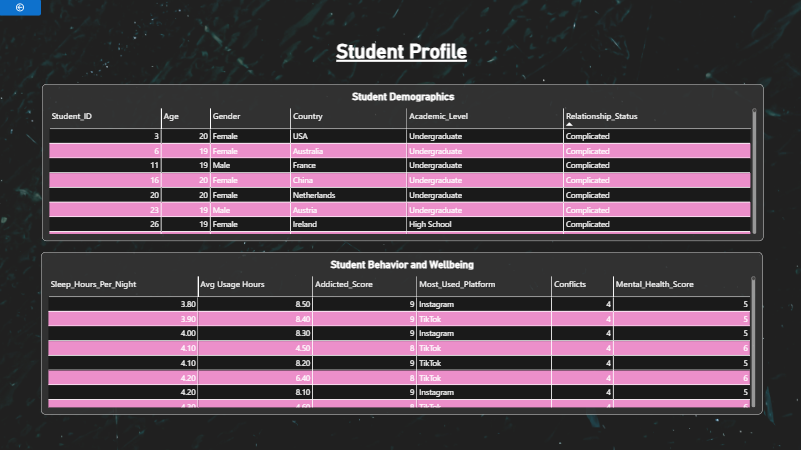

This screenshot's page, from the dashboard's own definition file:
{"tool":"powerbi","page":{"name":"Student Profile","canvas":[1920,1080],"ordinal":5},"visuals":[{"type":"textbox","title":"Student Profile","box":[100,97.5,1717.5,55],"z":0},{"type":"actionButton","box":[0,0,100,40],"z":1000},{"type":"tableEx","title":"Student Demographics","fields":{"Values":["Platform_Details.Student_ID","Student_Details.Age","Student_Details.Gender","Student_Details.Country","Student_Details.Academic_Level","Student_Details.Relationship_Status"]},"box":[102,202,1717.8,374.2],"z":2000},{"type":"tableEx","title":"Student Behavior and Wellbeing","fields":{"Values":["Student_Details.Sleep_Hours_Per_Night","Platform_Details.Avg Usage Hours","Student_Details.Addicted_Score","Platform_Details.Most_Used_Platform","Student_Details.Conflicts_Over_Social_Media","Student_Details.Mental_Health_Score"]},"box":[99.9,601.7,1717.8,386.9],"z":3000}]}

Visuals, with their boxes in screenshot pixels (x1, y1, x2, y2), scaled from the page's 1920x1080 canvas onto the 801x450 screenshot:
"Student Profile" textbox: detection(42, 41, 758, 64)
actionButton: detection(0, 0, 42, 17)
"Student Demographics" tableEx: detection(43, 84, 759, 240)
"Student Behavior and Wellbeing" tableEx: detection(42, 251, 758, 412)
